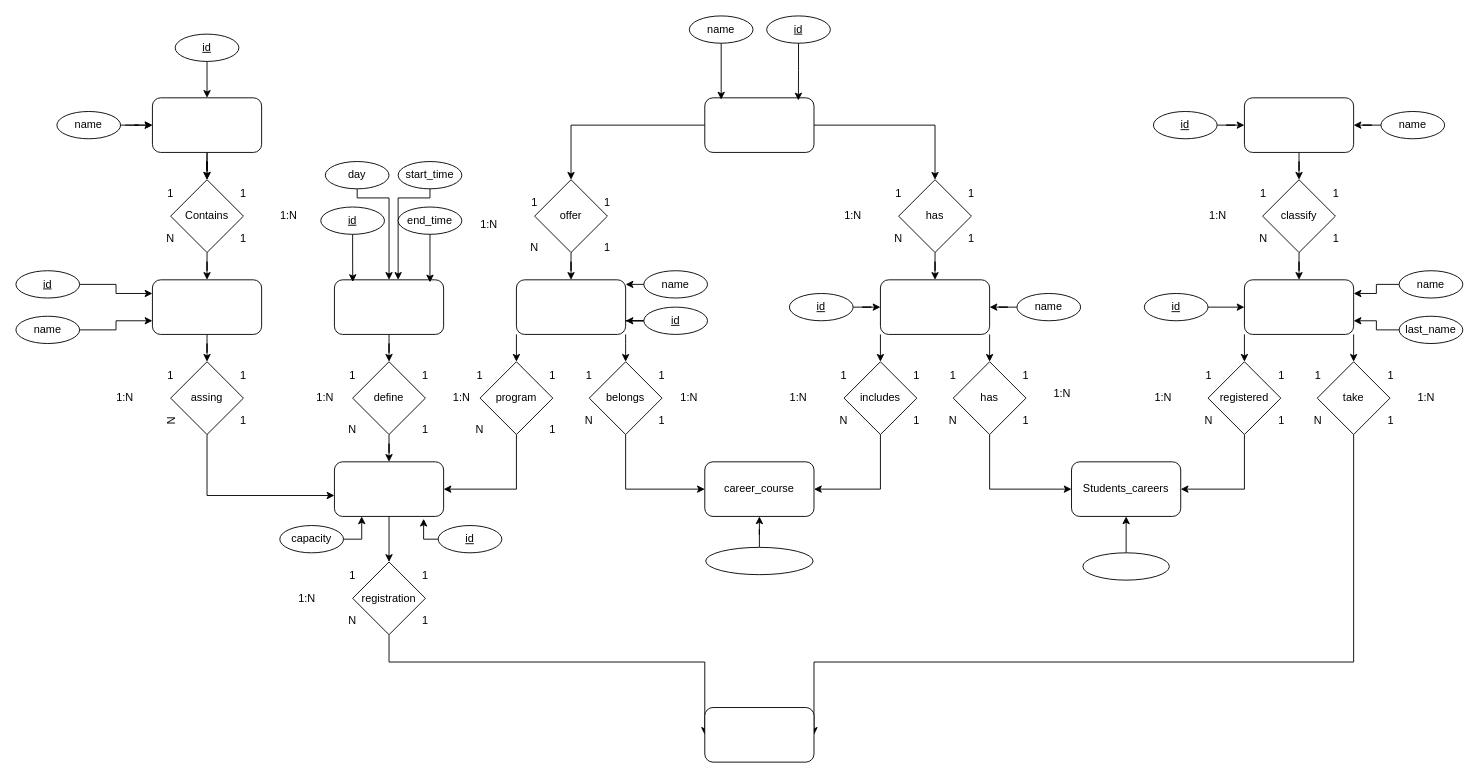
This 1479x778 diagram has some shape labels left out. The centre of each missing label's shape, as x and y in pixels:
"academic_course" belongs at [389,488].
"Buildings" belongs at [207,124].
"career" belongs at [935,306].
"Course" belongs at [571,306].
"Faculties" belongs at [759,124].
"Roles" belongs at [1299,124].
"Rooms" belongs at [207,306].
"schedules" belongs at [389,306].
"semester_curriculum" belongs at [759,560].
"semestre_actual" belongs at [1125,566].
"sestudents_courses" belongs at [759,734].
"Users" belongs at [1299,306].
